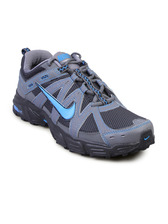shoes: (14, 45, 159, 160)
